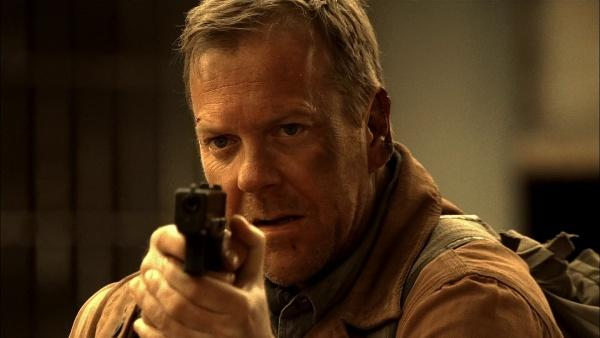Gun: (174, 182, 233, 277)
